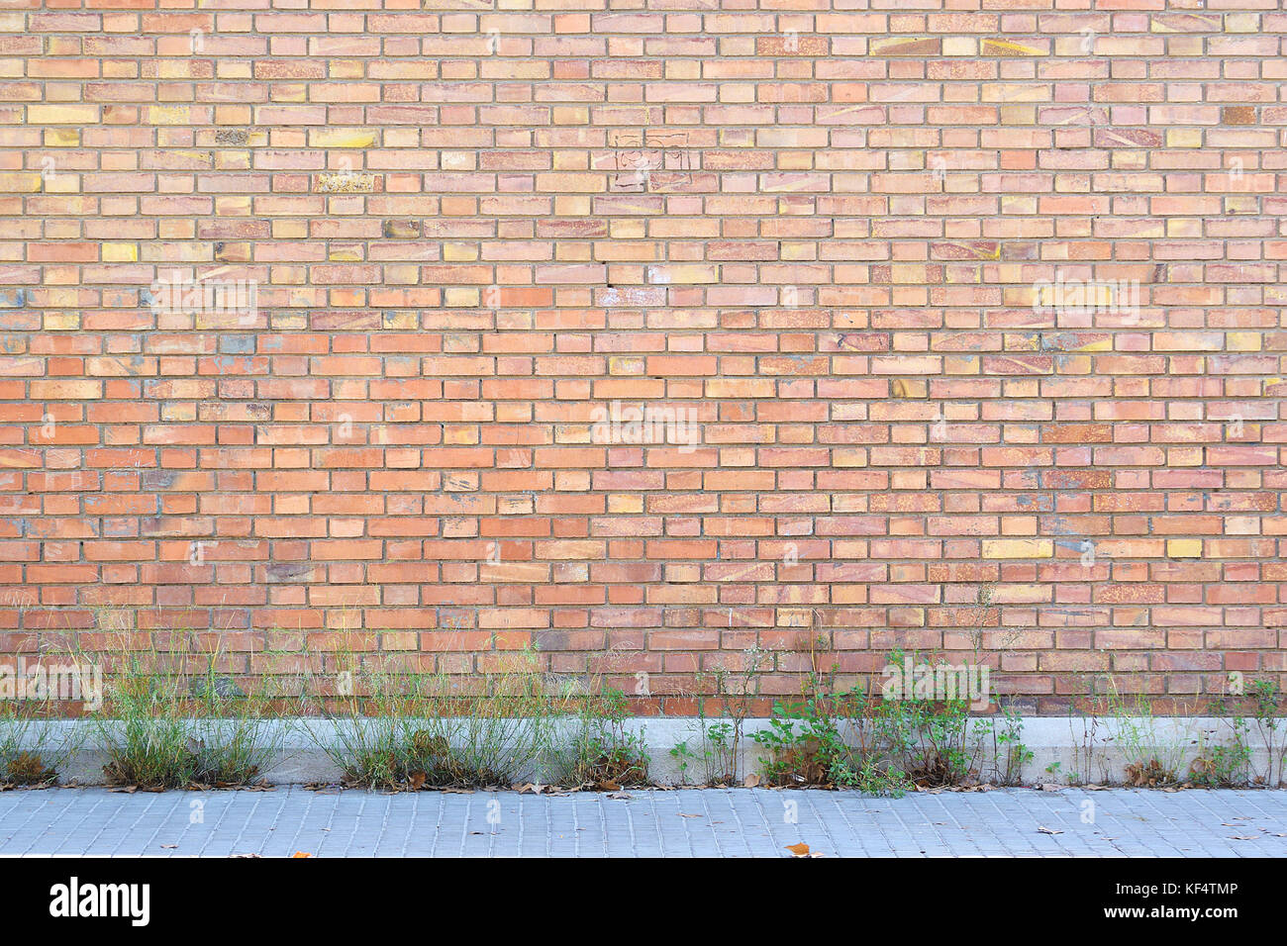Wall: (27, 14, 1276, 690)
